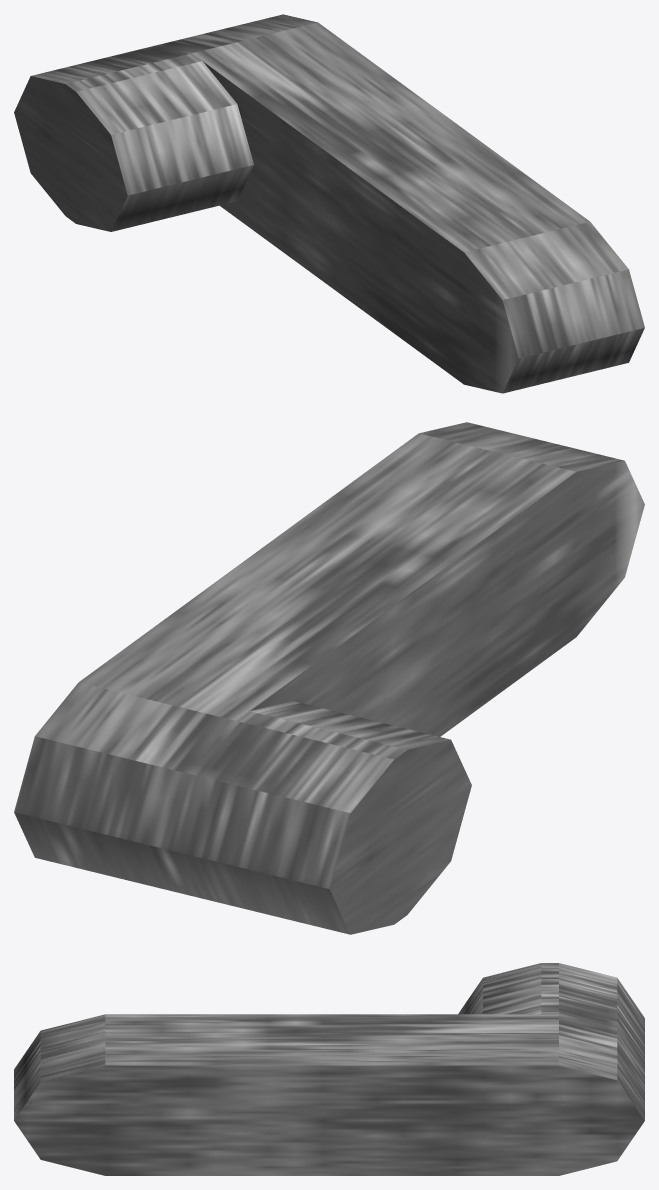
The model's file is speedHandle.fbx.
3 renders of one model, top to bottom at view 1: azimuth 30°, elevation 25°; view 2: azimuth 150°, elevation 25°; view 3: azimuth 270°, elevation 25°, orthographic. The views are drawn at different scales.
Parts seen in each view (by area): view 1: Group1; view 2: Group1; view 3: Group1.
Boxes of the visible parts, <box> form: Group1: <box>14,14,644,393</box>; Group1: <box>14,422,644,934</box>; Group1: <box>14,963,644,1175</box>.
Size of the model in its own units: 25 by 12.5 by 64.88.
